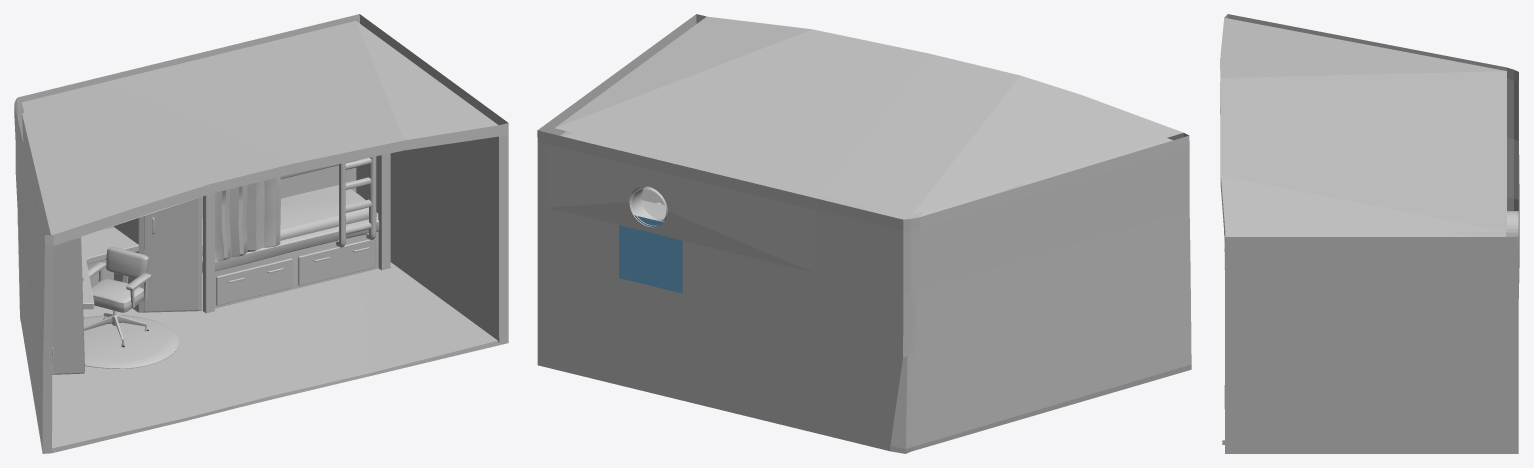
Rendered from Cabin_temp.fbx.
3 renders of one model, left to right at view 1: azimuth 30°, elevation 25°; view 2: azimuth 150°, elevation 25°; view 3: azimuth 270°, elevation 25°, orthographic. The views are drawn at different scales.
Visible parts, largest first — view 1: Cabin_temp; view 2: Cabin_temp; view 3: Cabin_temp.
Part boxes in pixels (x1=…): Cabin_temp: x1=14, y1=14, x2=508, y2=453; Cabin_temp: x1=537, y1=14, x2=1191, y2=453; Cabin_temp: x1=1220, y1=14, x2=1519, y2=453.
Size of the model in its own units: 52.42 by 25.37 by 29.66.
